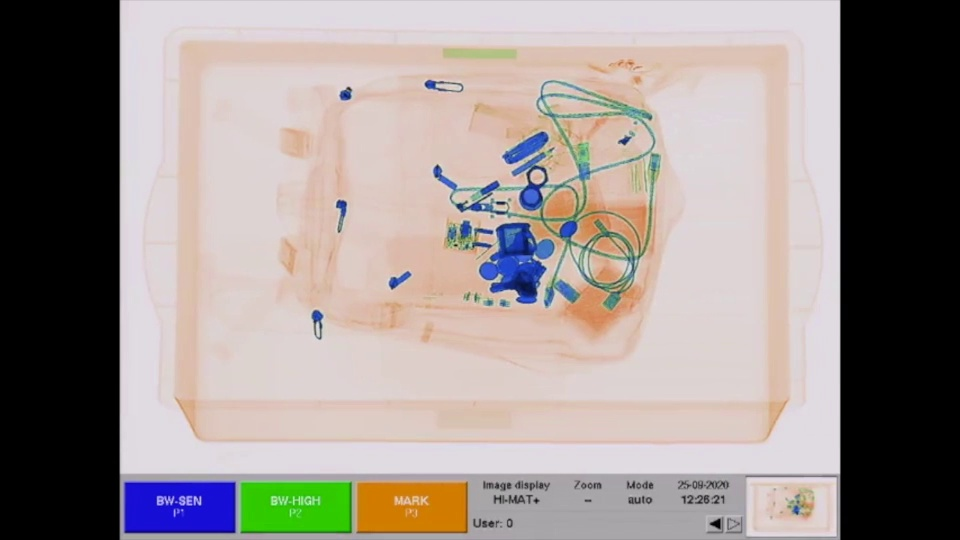tray_img: (141, 17, 828, 452)
